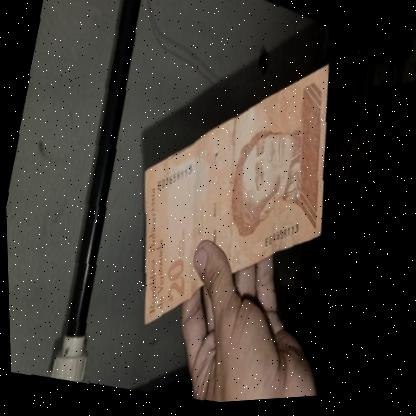twenty-front-vef: (106, 29, 362, 364)
